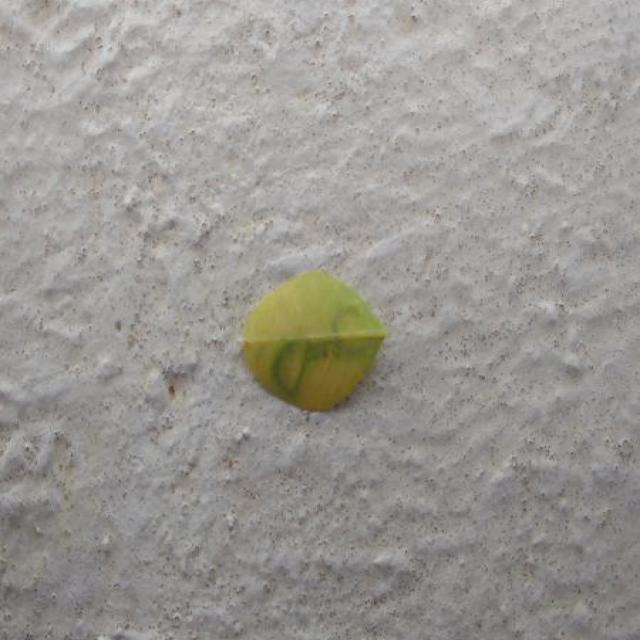drumstick: (243, 271, 387, 409)
